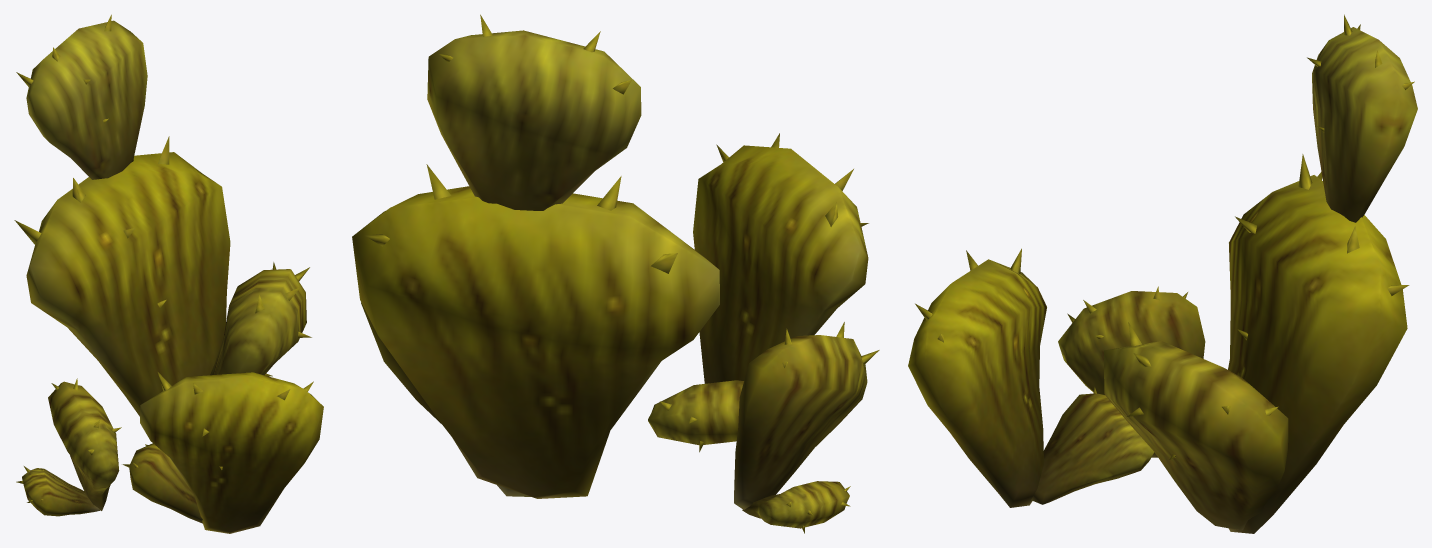
File: Stage_ShaMo_ZhiWu02.FBX
3 renders of one model, left to right at view 1: azimuth 30°, elevation 25°; view 2: azimuth 150°, elevation 25°; view 3: azimuth 270°, elevation 25°, orthographic. The views are drawn at different scales.
Parts seen in each view (by area): view 1: Stage_ShaMo_ZhiWu02; view 2: Stage_ShaMo_ZhiWu02; view 3: Stage_ShaMo_ZhiWu02.
Boxes of the visible parts, x1,y1,x2,y2 form: Stage_ShaMo_ZhiWu02: (14,14,323,533); Stage_ShaMo_ZhiWu02: (352,14,879,533); Stage_ShaMo_ZhiWu02: (908,14,1417,533).
Size of the model in its own units: 192 by 237 by 232.
